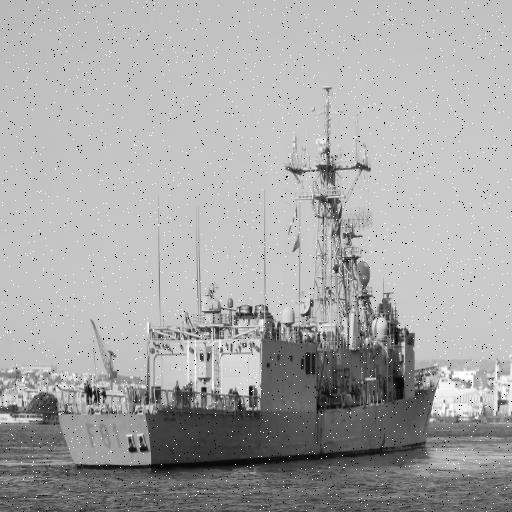Fragata: (54, 83, 442, 473)
